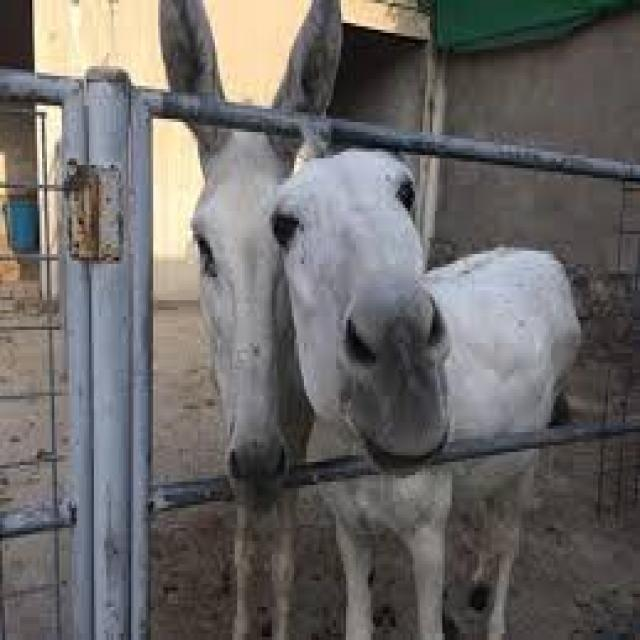Donkey: (269, 140, 592, 640), (146, 0, 355, 640)
